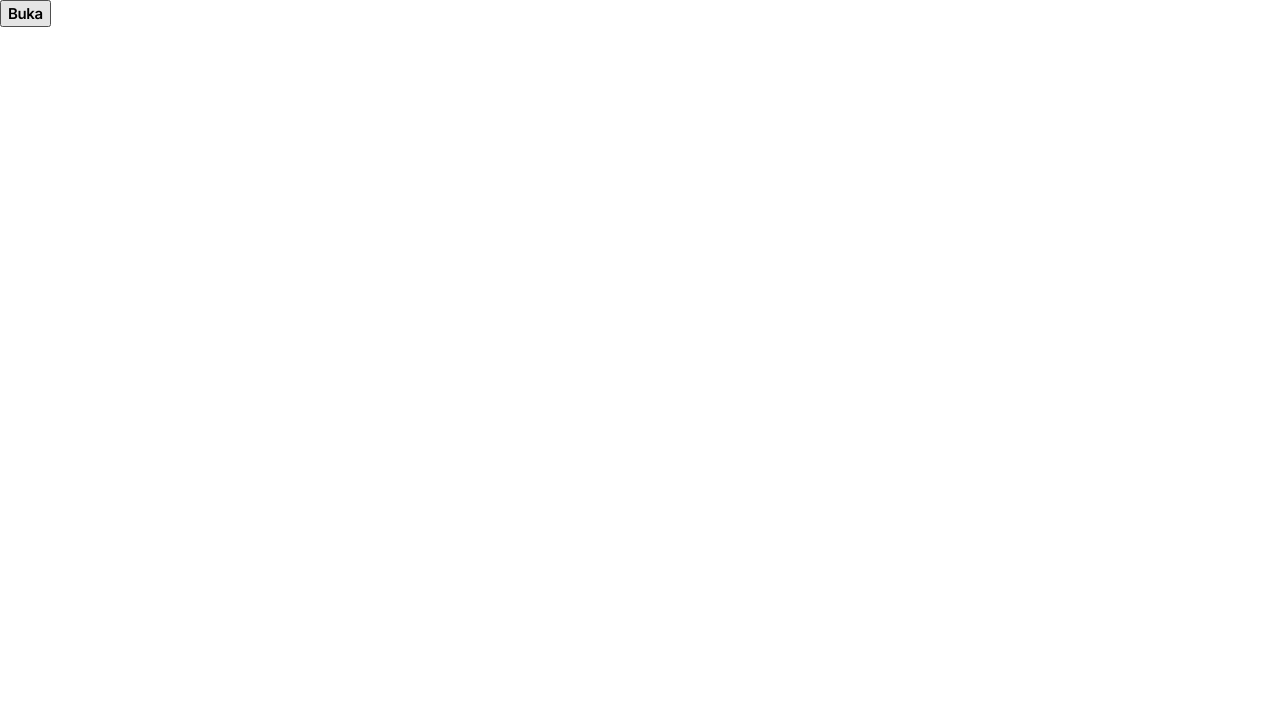
Test case: Sheet › closes when the scrim is tapped
This screenshot has width=1280, height=720.
Step 1. Click the button "Buka" → (25, 14), box [0, 0, 51, 27]
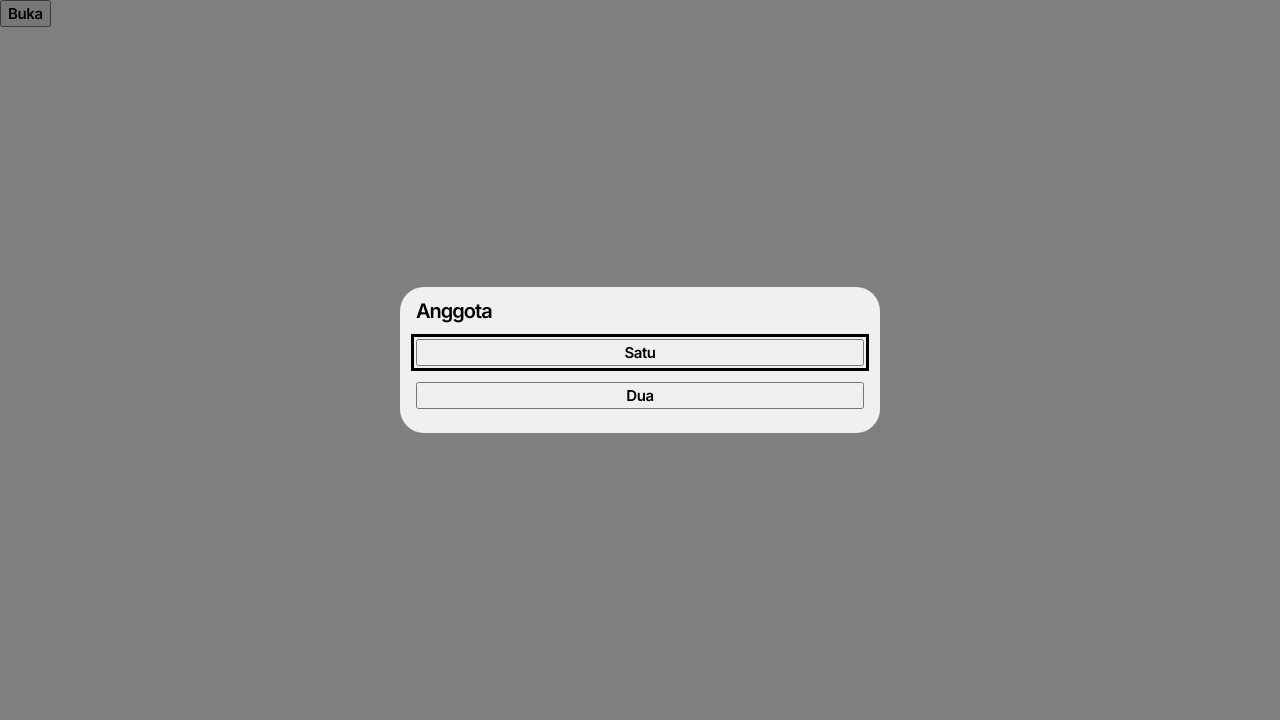
Step 2. Click the element with class "sheet-scrim" → (77, 360), box [0, 0, 1279, 719]
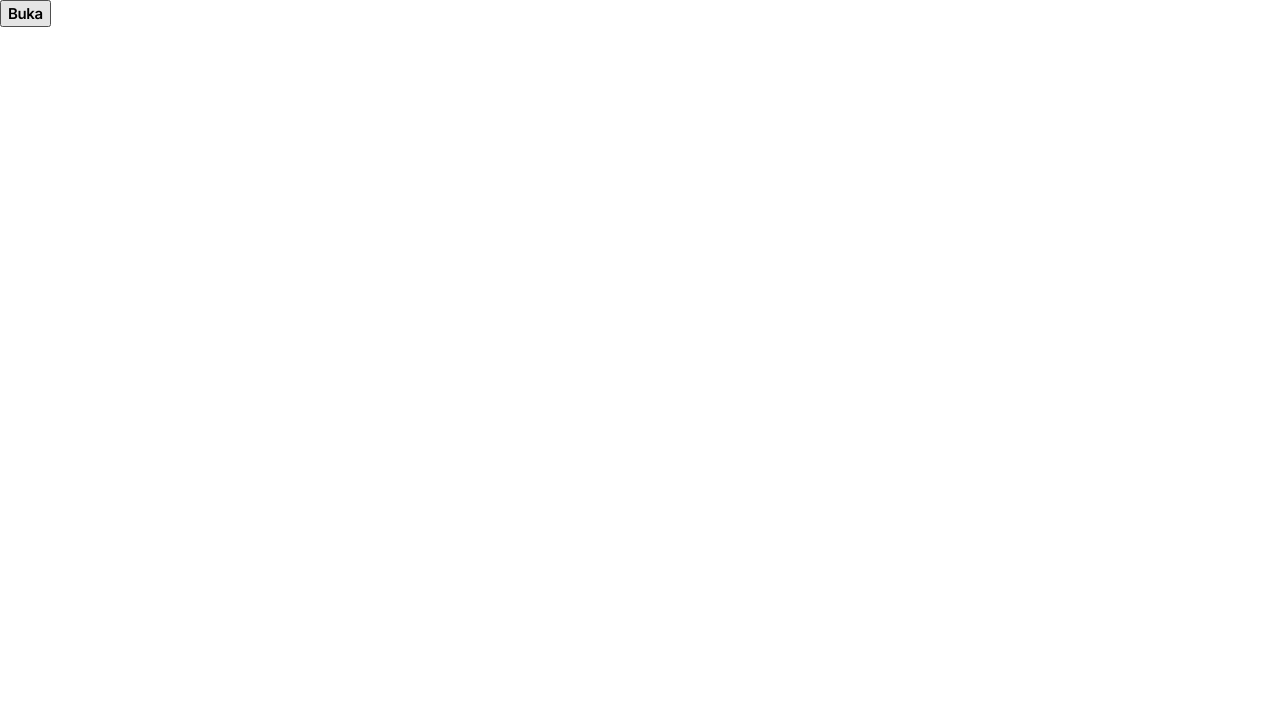
Result: the dialog is gone
